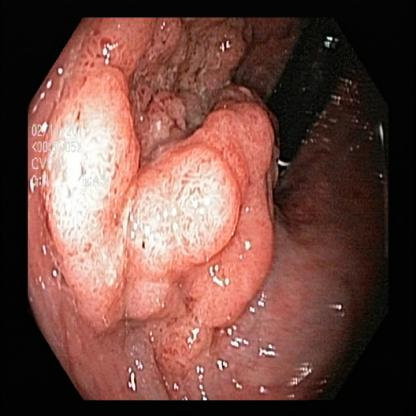Labels: (28, 116, 96, 196)
Polyps: (48, 69, 134, 327), (182, 119, 289, 325), (134, 152, 238, 274)
